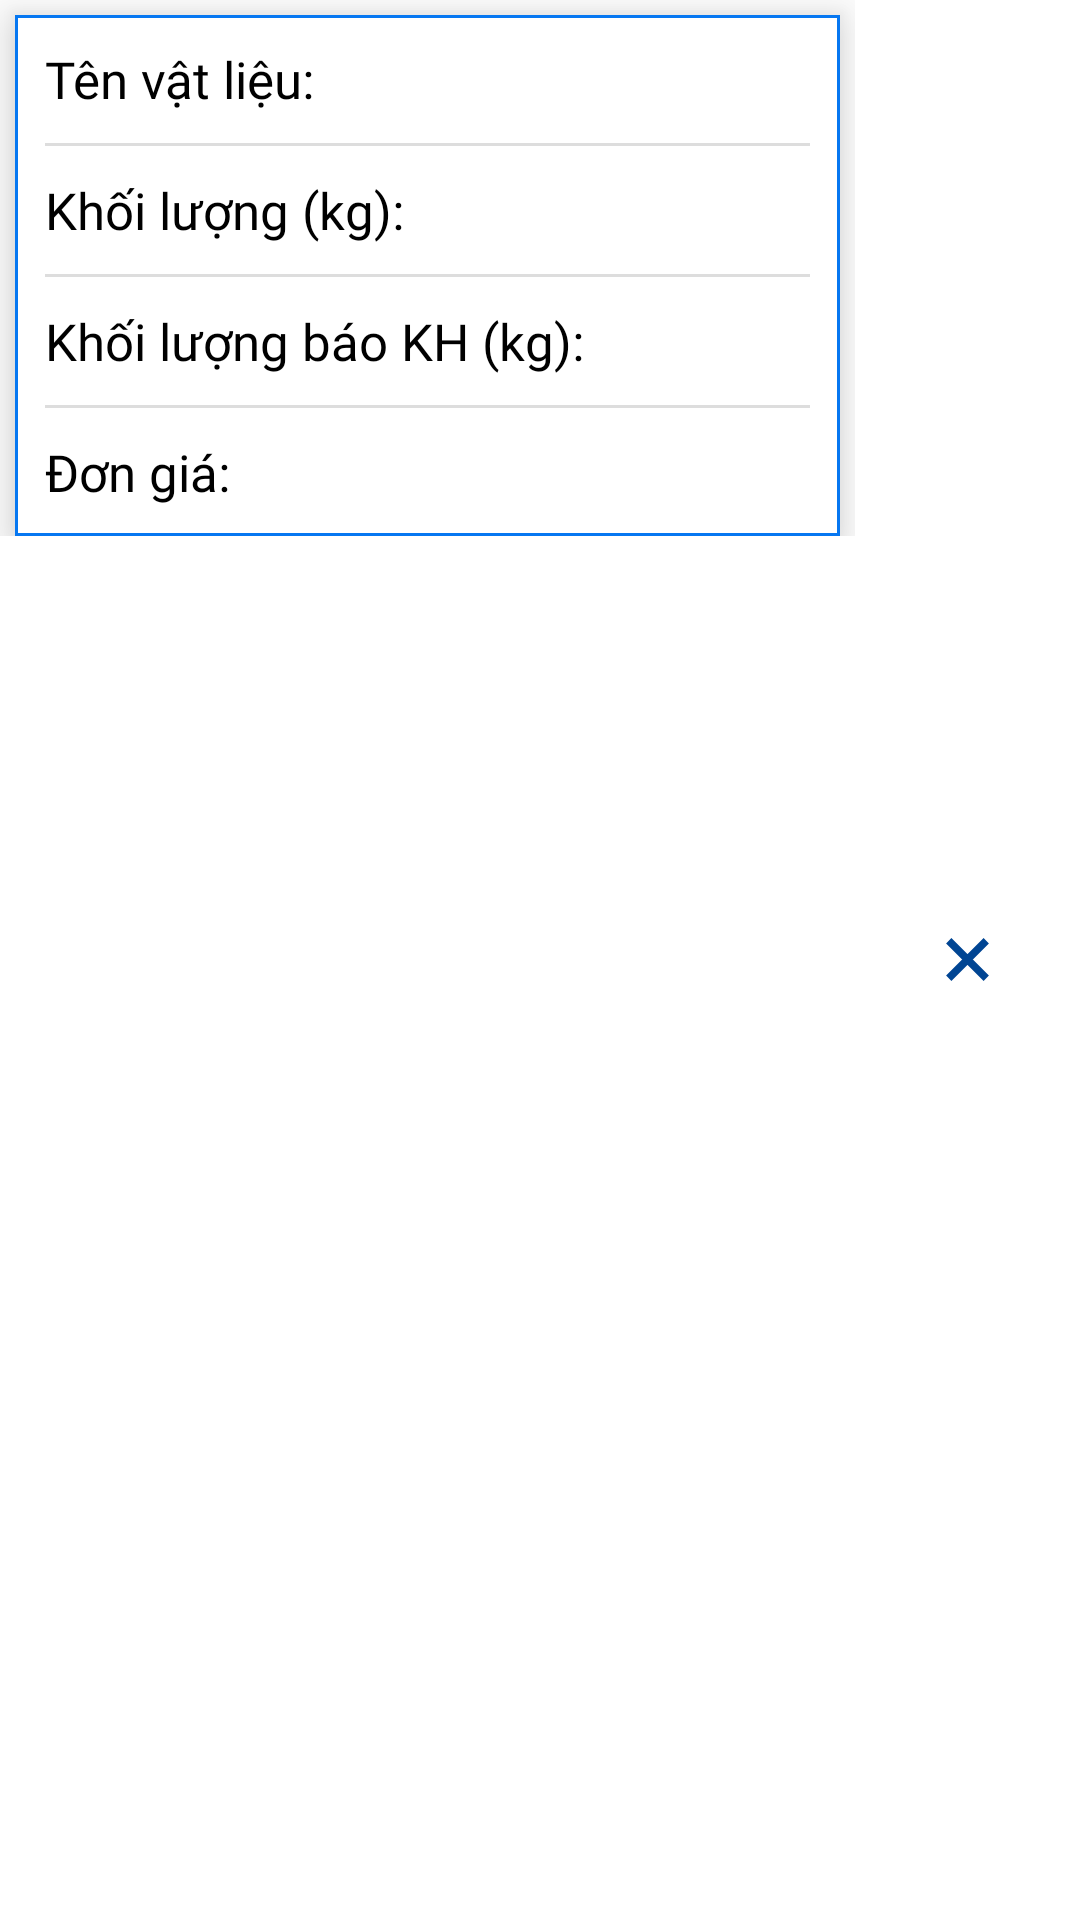

Icons on this 1080 x 1920 Android screen, each with the point to tap as [x,y]:
close dialog: [967,959]
